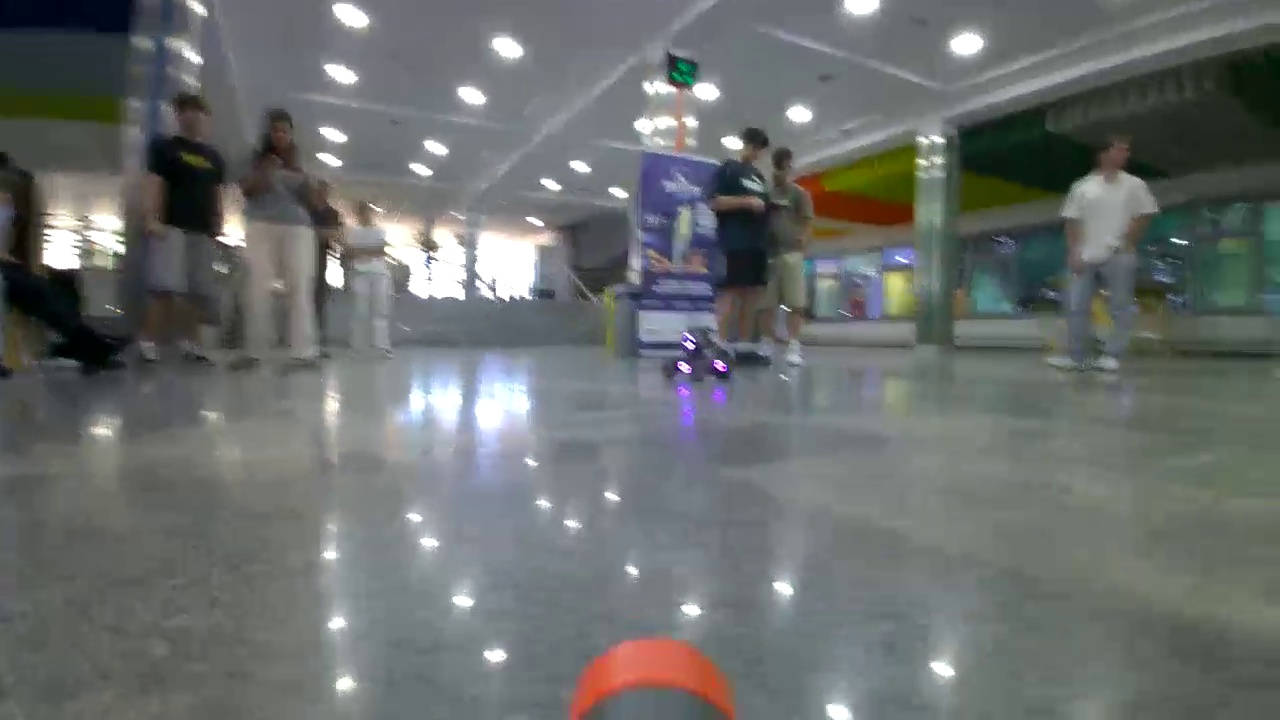robot: (672, 325, 733, 380)
